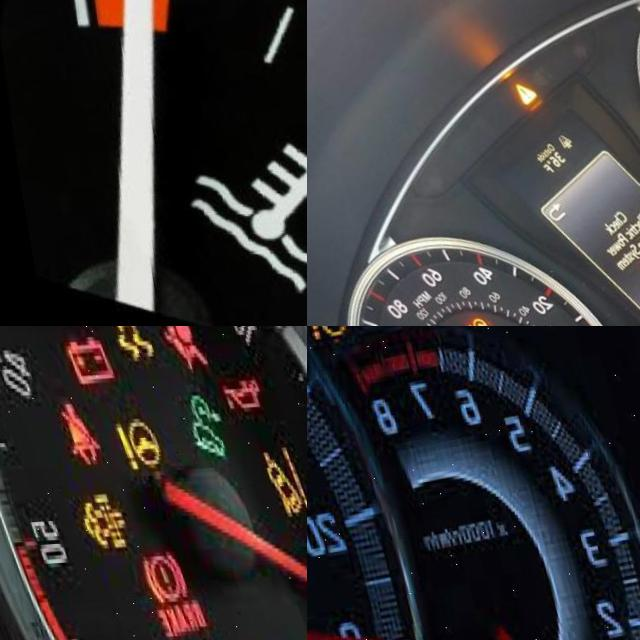Electronic Power Steering: (625, 254, 640, 293), (448, 317, 477, 326)
Electronic Power Steering Warning: (104, 425, 153, 475), (307, 326, 346, 346)
Seat Belt: (52, 406, 91, 471)
